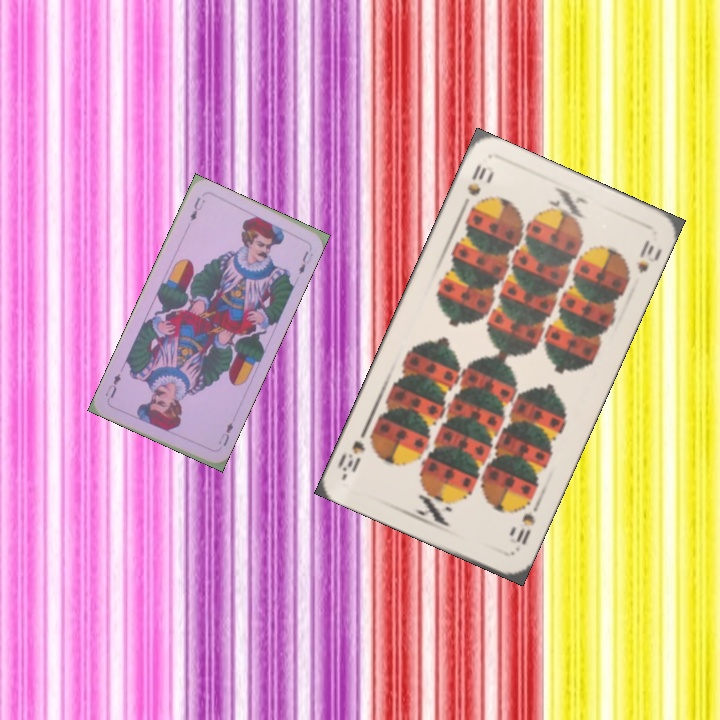EU: (186, 193, 208, 224), (214, 418, 236, 448)
S10: (457, 160, 495, 214), (512, 509, 538, 548)
